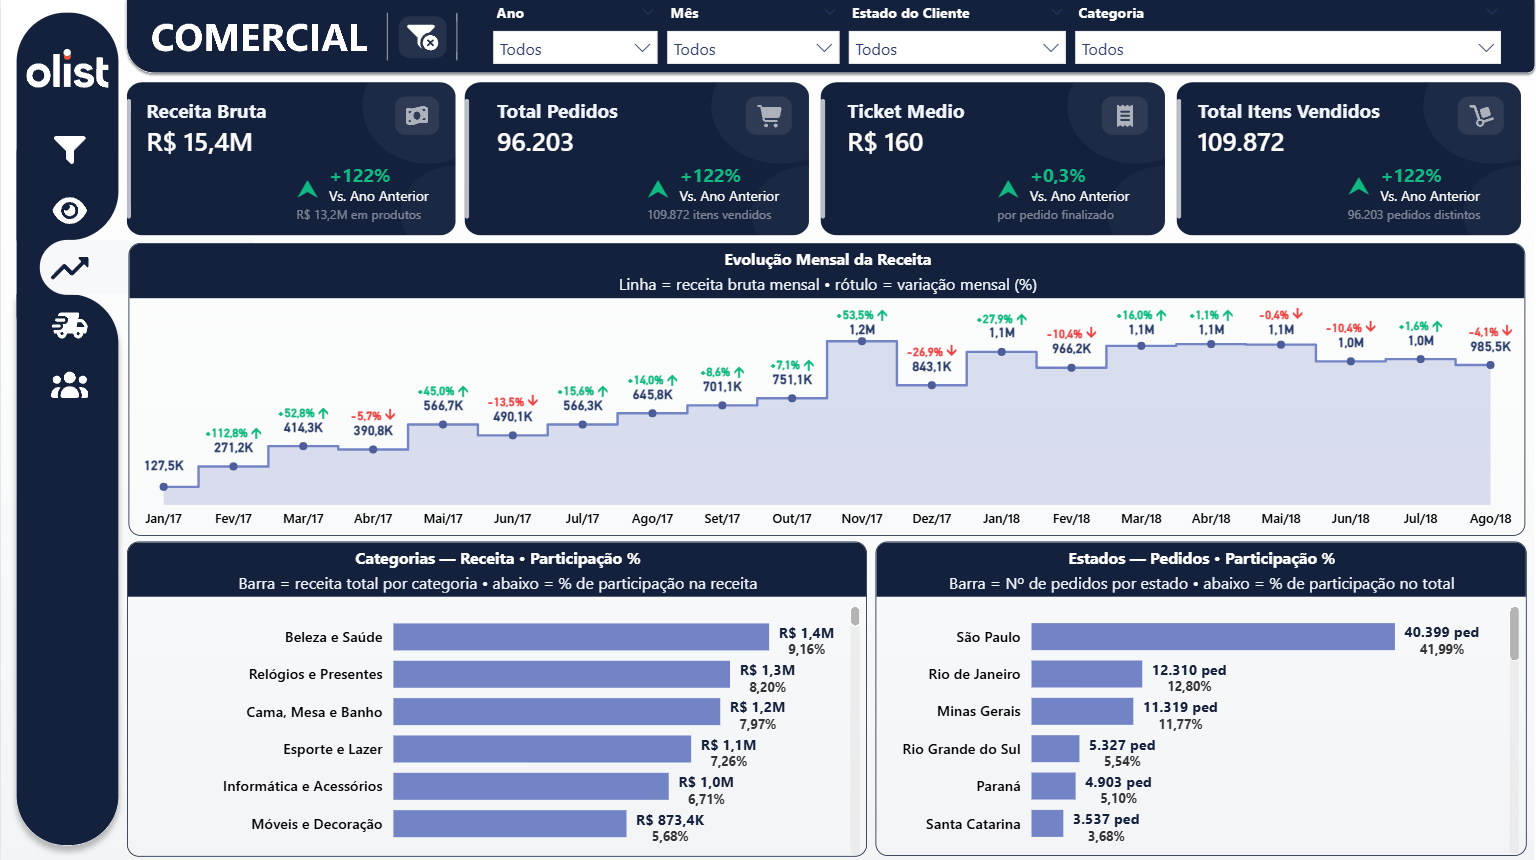

The dashboard page shown, as its layout file describes it:
{"tool":"powerbi","page":{"name":"COMERCIAL","canvas":[1280,720],"ordinal":2},"visuals":[{"type":"group","id":"g1","title":"g_topbar","box":[324.8,3,930.2,58.1],"z":0},{"type":"slicer","title":"Categoria","fields":{"Values":["Categoria.Categoria"]},"box":[890,3,365,56.7],"z":0,"group":"g2"},{"type":"cardVisual","title":"grid_cartao","fields":{"Data":["_Medidas.Receita Bruta","_Medidas.Total Pedidos","_Medidas.Ticket Medio","_Medidas.Total Itens Vendidos"]},"box":[101.2,63.8,1178.8,140],"z":0,"group":"g3"},{"type":"actionButton","title":"btn_vendedores","box":[35.5,302.6,42.2,40.9],"z":0,"group":"g5"},{"type":"clusteredBarChart","title":"Estados — Pedidos • Participação %","fields":{"Category":["Estado.Estado Nome"],"Y":["_Medidas.Total Pedidos"]},"box":[728.5,452.2,542.6,262],"z":0,"group":"g4"},{"type":"group","id":"g2","title":"g_filtros","box":[405,3,850,58.1],"z":500,"group":"g1"},{"type":"slicer","title":"Estado do Cliente","fields":{"Values":["Estado.Estado Nome"]},"box":[701.4,3,191.1,57.8],"z":1000,"group":"g2"},{"type":"actionButton","title":"btn_reset_filtro_rapido","box":[324.8,9.8,52.3,40.9],"z":1000,"group":"g1"},{"type":"group","id":"g3","title":"g_dados","box":[101.2,63.8,1178.8,650.6],"z":1000},{"type":"group","id":"g4","title":"g_graficos","box":[104.3,202.9,1166.8,511.5],"z":1000,"group":"g3"},{"type":"actionButton","title":"btn_logistica","box":[35.6,255,42.2,41.1],"z":1000,"group":"g5"},{"type":"clusteredBarChart","title":"Categorias — Receita • Participação %","fields":{"Category":["Categoria.Categoria"],"Y":["_Medidas.Receita Bruta"]},"box":[104.3,451.9,616.9,262.5],"z":1000,"group":"g4"},{"type":"slicer","title":"Mês","fields":{"Values":["Calendario.MesNome"]},"box":[550,3,153.3,56.7],"z":2000,"group":"g2"},{"type":"group","id":"g5","title":"g_btn_navegacao","box":[19,33,75,310.4],"z":2000},{"type":"lineChart","title":"Evolução Mensal da Receita","fields":{"Category":["Calendario.MesAnoTexto"],"Y":["_Medidas.Rotulo Receita Bruta"]},"box":[105.6,202.9,1164.3,244.3],"z":2000,"group":"g4"},{"type":"actionButton","title":"btn_comercial","box":[35.6,203,42.2,41.1],"z":2000,"group":"g5"},{"type":"slicer","title":"Ano","fields":{"Values":["Dim_Calendario.Ano"]},"box":[405,3,146.9,58.1],"z":3000,"group":"g2"},{"type":"actionButton","title":"btn_visao_geral","box":[35,155.2,42.2,41.3],"z":3000,"group":"g5"},{"type":"actionButton","title":"btn_menu_on","box":[35.8,104.2,42.1,41.1],"z":4000,"group":"g5"},{"type":"actionButton","title":"btn_home","box":[19,33,75,46.4],"z":5000,"group":"g5"}]}

Visuals, with their boxes in screenshot pixels (x1, y1, x2, y2), scaled from the page's 1280x720 canvas onto the 1536x860 screenshot:
"g_topbar" group: crop(390, 4, 1506, 73)
"Categoria" slicer: crop(1068, 4, 1506, 71)
"grid_cartao" cardVisual: crop(121, 76, 1535, 243)
"btn_vendedores" actionButton: crop(43, 361, 93, 410)
"Estados — Pedidos • Participação %" clusteredBarChart: crop(874, 540, 1525, 853)
"g_filtros" group: crop(486, 4, 1506, 73)
"Estado do Cliente" slicer: crop(842, 4, 1071, 73)
"btn_reset_filtro_rapido" actionButton: crop(390, 12, 453, 61)
"g_dados" group: crop(121, 76, 1535, 853)
"g_graficos" group: crop(125, 242, 1525, 853)
"btn_logistica" actionButton: crop(43, 305, 93, 354)
"Categorias — Receita • Participação %" clusteredBarChart: crop(125, 540, 865, 853)
"Mês" slicer: crop(660, 4, 844, 71)
"g_btn_navegacao" group: crop(23, 39, 113, 410)
"Evolução Mensal da Receita" lineChart: crop(127, 242, 1524, 534)
"btn_comercial" actionButton: crop(43, 242, 93, 292)
"Ano" slicer: crop(486, 4, 662, 73)
"btn_visao_geral" actionButton: crop(42, 185, 93, 235)
"btn_menu_on" actionButton: crop(43, 124, 93, 174)
"btn_home" actionButton: crop(23, 39, 113, 95)
